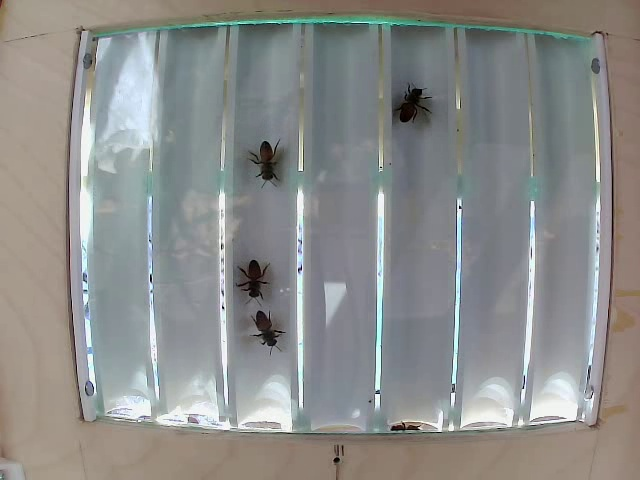bee: (241, 307, 292, 361), (394, 71, 424, 151), (253, 135, 290, 195), (229, 272, 267, 302)
